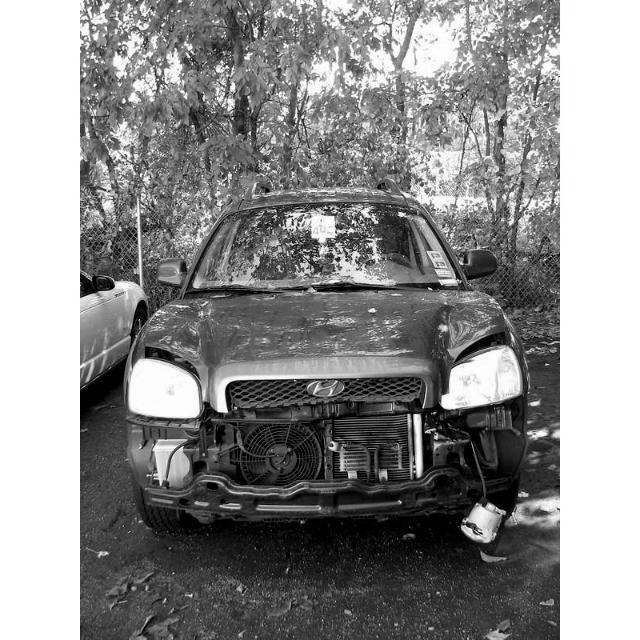bonnet-dent: (144, 285, 525, 377)
front-bumper-dent: (137, 386, 526, 519)
